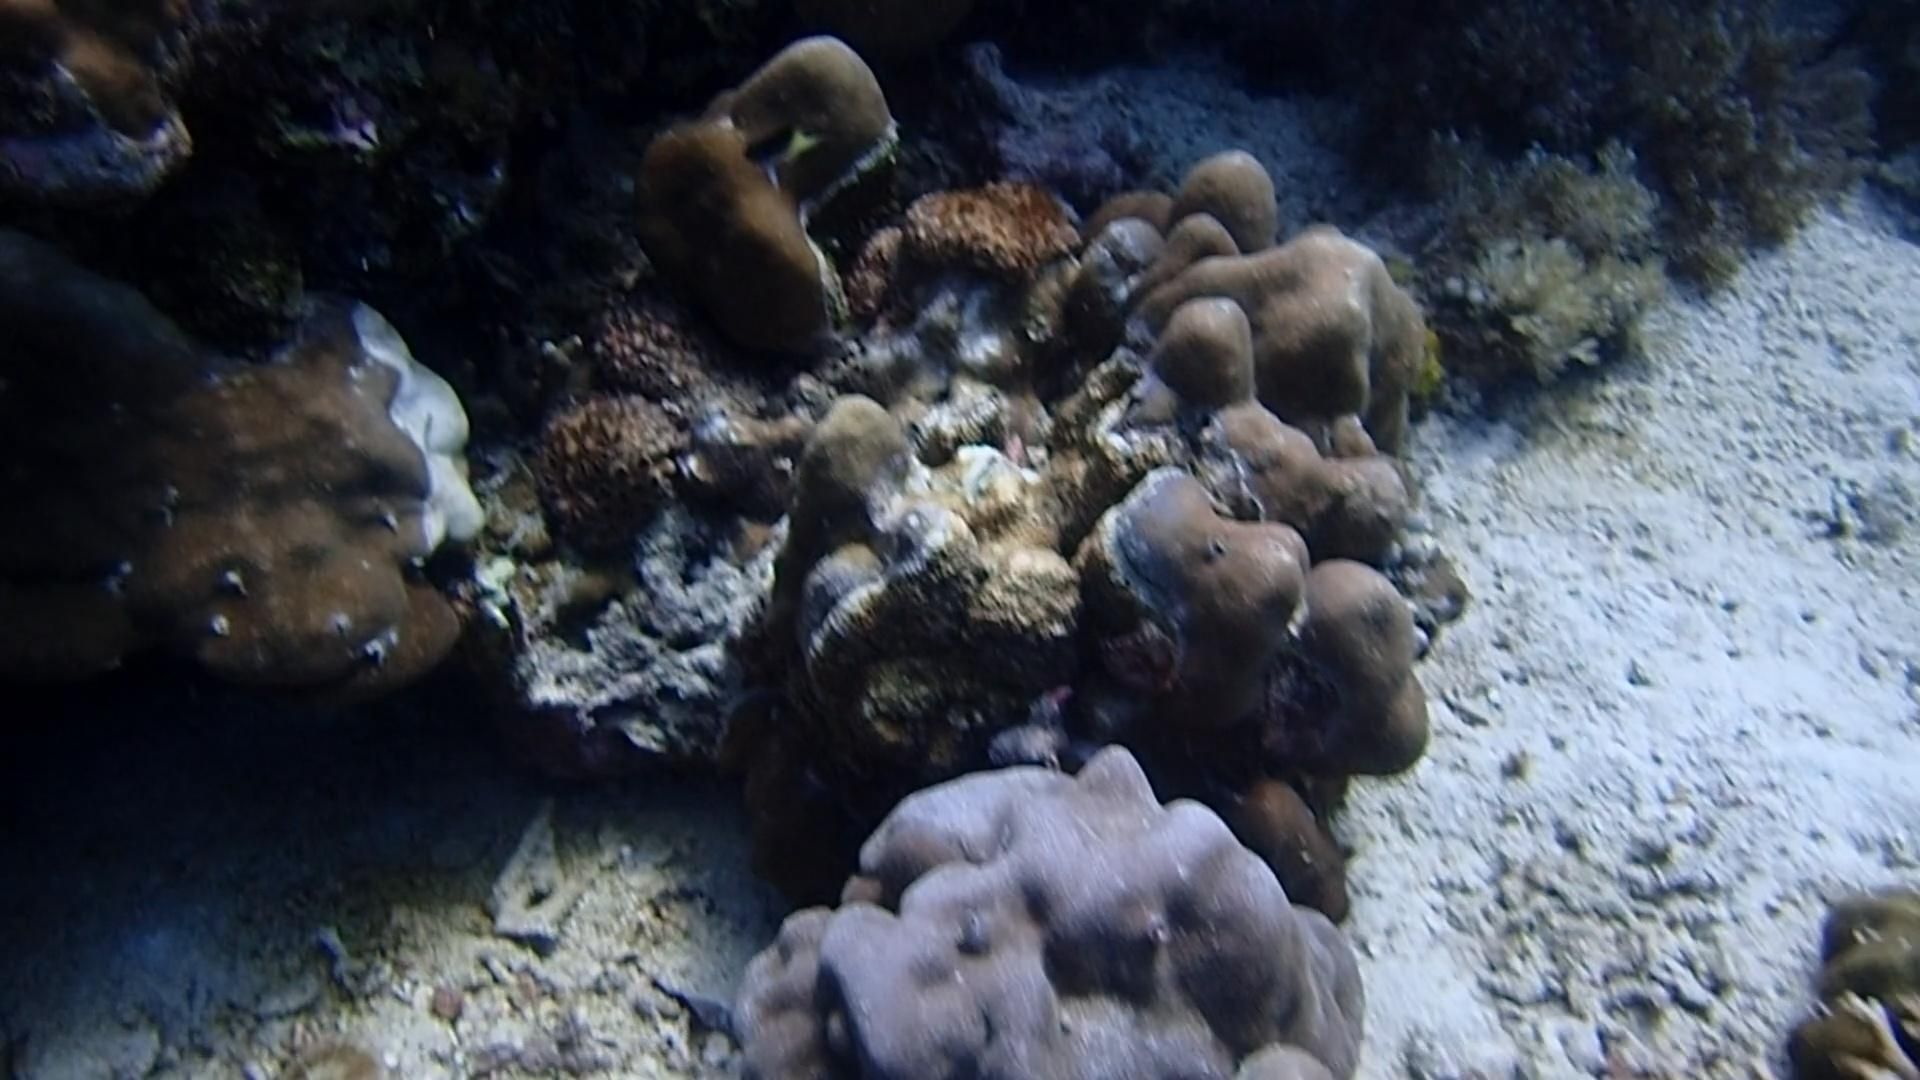Yellow Tail: (740, 112, 836, 202)
